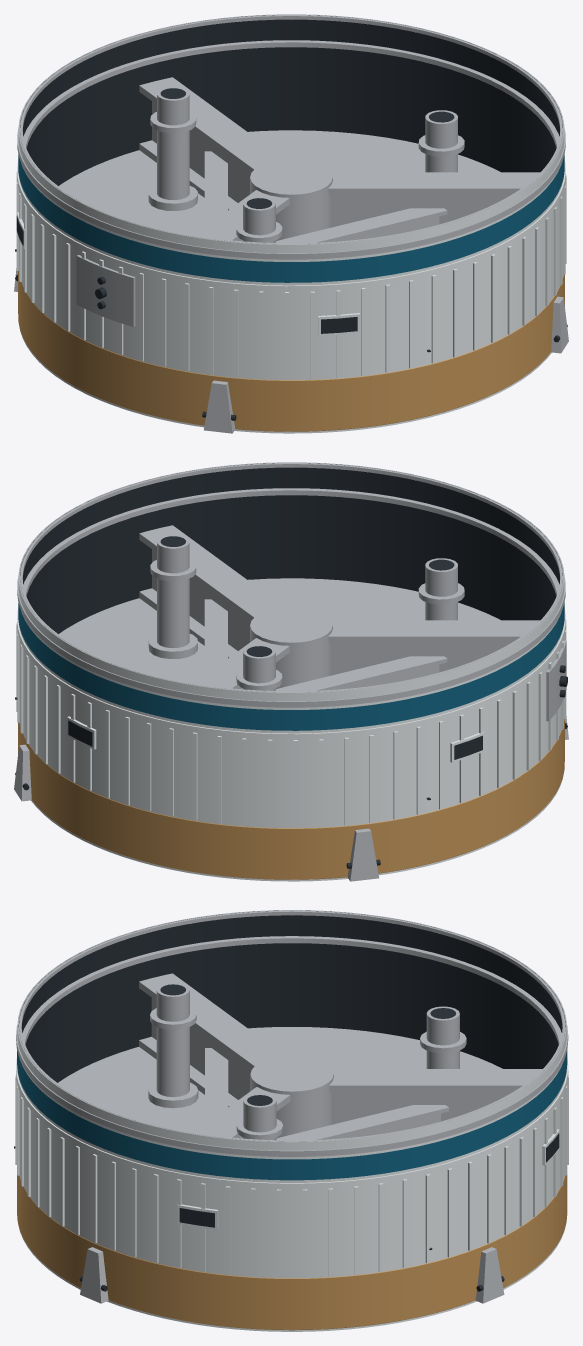
The model's file is mount_s1_3_d84.fbx.
3 renders of one model, top to bottom at view 1: azimuth 30°, elevation 25°; view 2: azimuth 150°, elevation 25°; view 3: azimuth 270°, elevation 25°, orthographic.
Visible parts, largest first — view 1: mount_s1_3_d84_LOD0; view 2: mount_s1_3_d84_LOD0; view 3: mount_s1_3_d84_LOD0.
Boxes of the visible parts, x1,y1,x2,y2 form: mount_s1_3_d84_LOD0: (14,14,568,433); mount_s1_3_d84_LOD0: (14,462,568,881); mount_s1_3_d84_LOD0: (14,910,568,1331).
Size of what is drawn, in the model's own units: 8.46 by 3.2 by 8.48.
